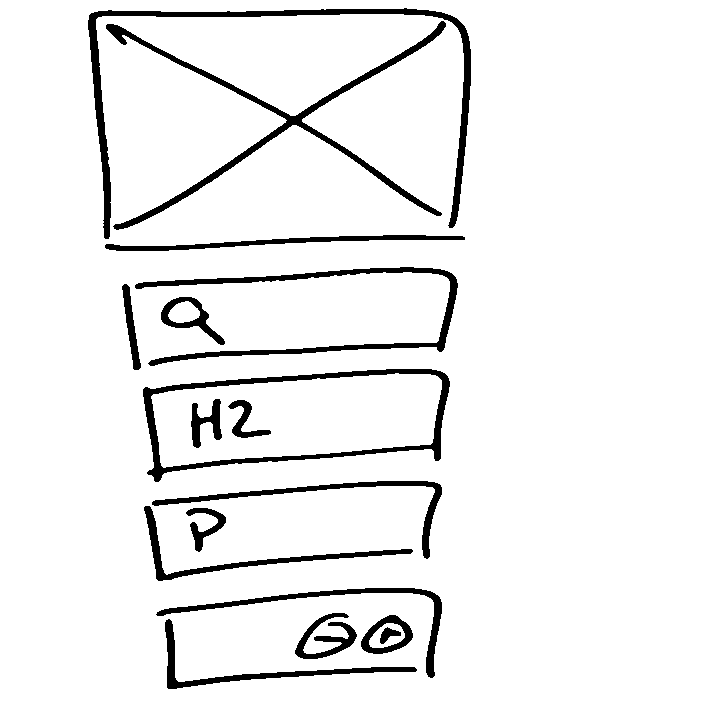heading2: (126, 366, 466, 476)
inline stepper bar: (155, 583, 455, 697)
paragraph: (140, 476, 448, 581)
picture: (81, 8, 498, 250)
search bar: (109, 257, 472, 365)
